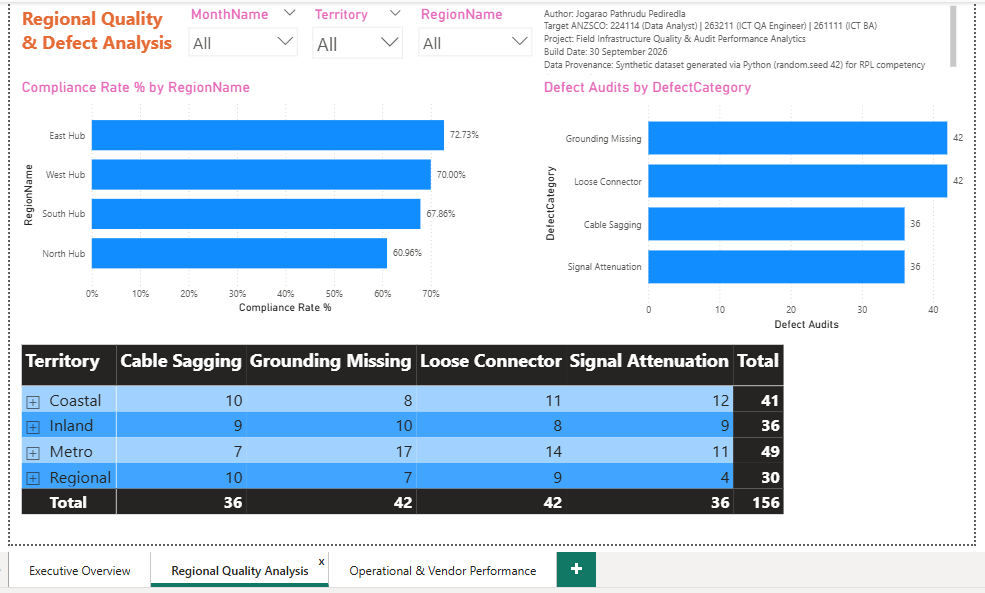

The page's visual inventory and layout, read from the dashboard file:
{"tool":"powerbi","page":{"name":"Regional Quality Analysis","canvas":[1280,720],"ordinal":1},"visuals":[{"type":"textbox","box":[10,0,280,280],"z":0},{"type":"slicer","fields":{"Values":["dim_regions.Territory"]},"box":[289.8,0,279.5,281],"z":1000},{"type":"clusteredBarChart","fields":{"Category":["dim_regions.RegionName"],"Y":["_Measures.Compliance Rate %"]},"box":[10.2,101,629.3,317.6],"z":2000},{"type":"clusteredBarChart","fields":{"Category":["fact_audits.DefectCategory"],"Y":["_Measures.Defect Audits"]},"box":[703.9,101,576.6,339.5],"z":3000},{"type":"pivotTable","fields":{"Rows":["dim_regions.Territory","dim_regions.RegionName"],"Columns":["fact_audits.DefectCategory"],"Values":["_Measures.Defect Audits"]},"box":[10.2,450.7,1255.6,269.3],"z":4000},{"type":"slicer","fields":{"Values":["dim_regions.RegionName"]},"box":[526.8,0,301.5,150.7],"z":4001},{"type":"slicer","fields":{"Values":["Dim_Date.MonthName"]},"box":[248.8,0,278,150.7],"z":4002},{"type":"textbox","box":[826.8,0,434.6,125.9],"z":4003}]}

Visuals, with their boxes on the page's 1280x720 design canvas (x1, y1, x2, y2). These are canvas units, not pixel positions in the 985x593 screenshot, which may show the page scaled, cropped or inside an application window:
textbox: crop(10, 0, 290, 280)
slicer - dim_regions.Territory: crop(290, 0, 569, 281)
clusteredBarChart - dim_regions.RegionName x _Measures.Compliance Rate %: crop(10, 101, 640, 419)
clusteredBarChart - fact_audits.DefectCategory x _Measures.Defect Audits: crop(704, 101, 1280, 440)
pivotTable - dim_regions.Territory x dim_regions.RegionName: crop(10, 451, 1266, 720)
slicer - dim_regions.RegionName: crop(527, 0, 828, 151)
slicer - Dim_Date.MonthName: crop(249, 0, 527, 151)
textbox: crop(827, 0, 1261, 126)
